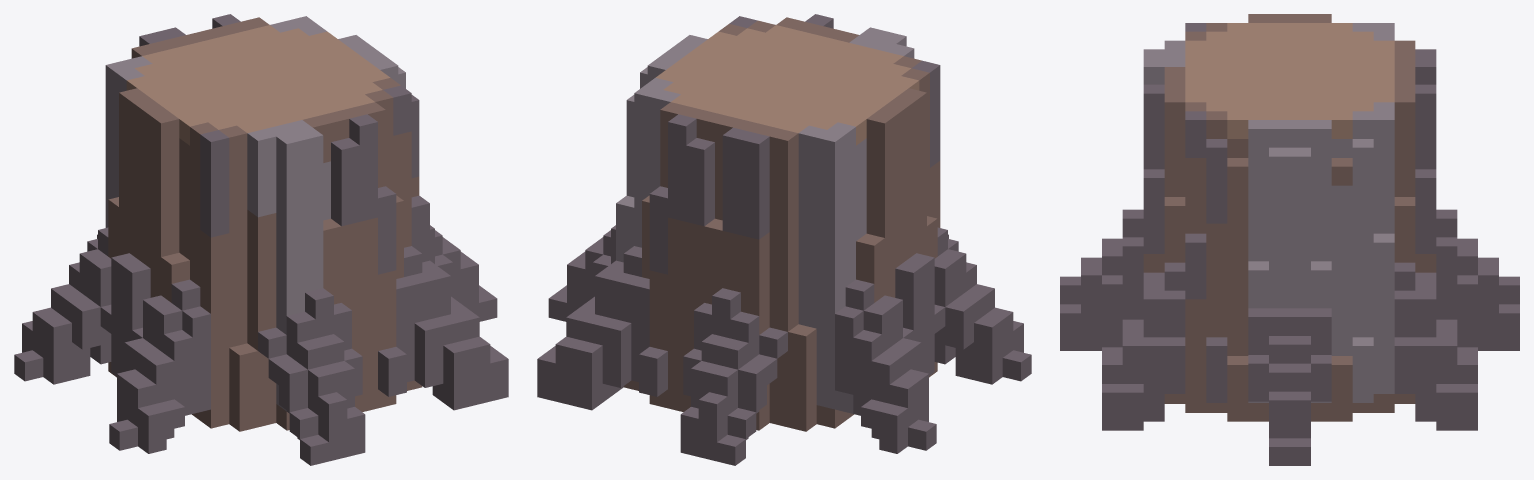
Rendered from blackened_stump.glb.
3 views of the same model, side by side, from view 1: azimuth 30°, elevation 25°; view 2: azimuth 150°, elevation 25°; view 3: azimuth 270°, elevation 25° (orthographic).
Bounding box in the file's own units: 0.9583 × 0.625 × 0.9167.
